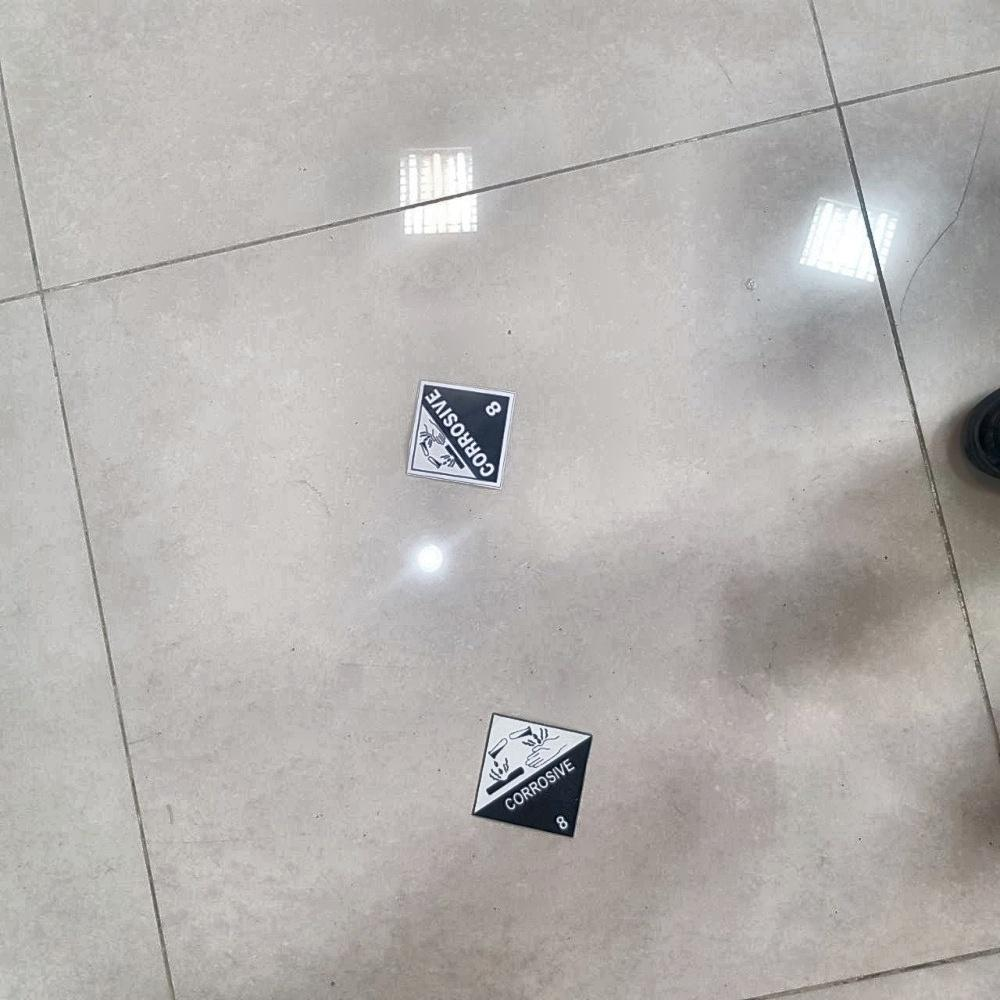corrosive: (461, 719, 595, 838), (406, 385, 512, 489)
